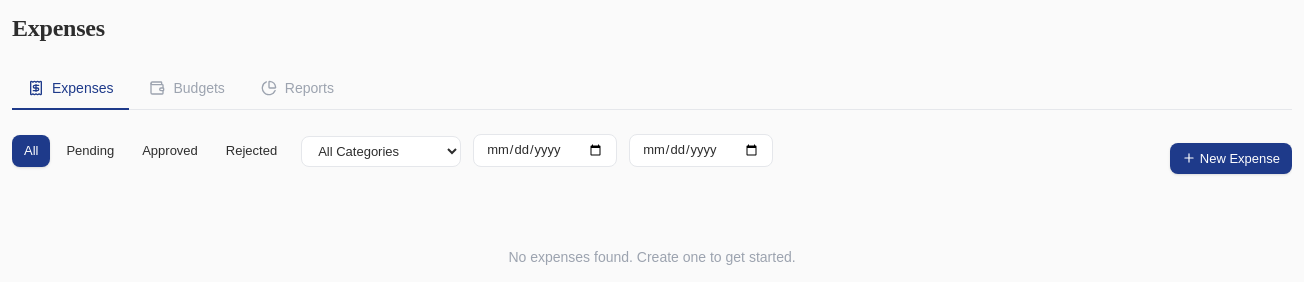
Test: ExpensesPage › switches to Reports tab
What coordinates should you click on to do the following:
click the button "Reports"
I would click on:
 (297, 89)
Its box is [245,68,350,110].
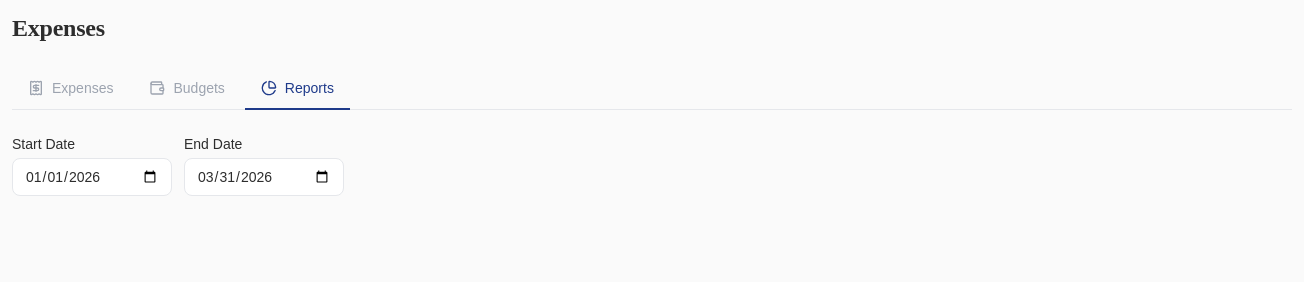
Check: the date field labelled "Start Date" is shown, box [12,158,172,196]
Check: the date field labelled "End Date" is shown, box [184,158,344,196]
